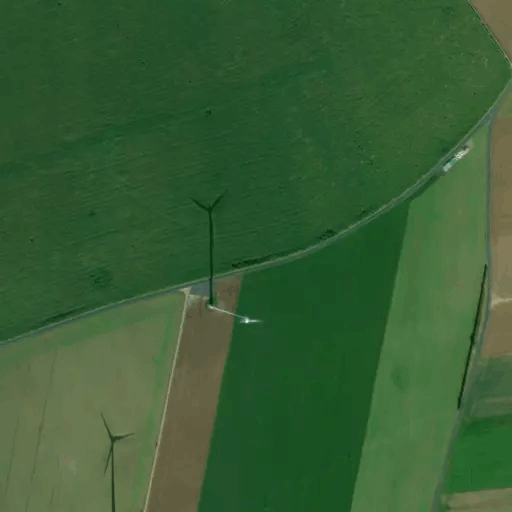wt: (182, 187, 273, 333), (91, 405, 140, 512)
